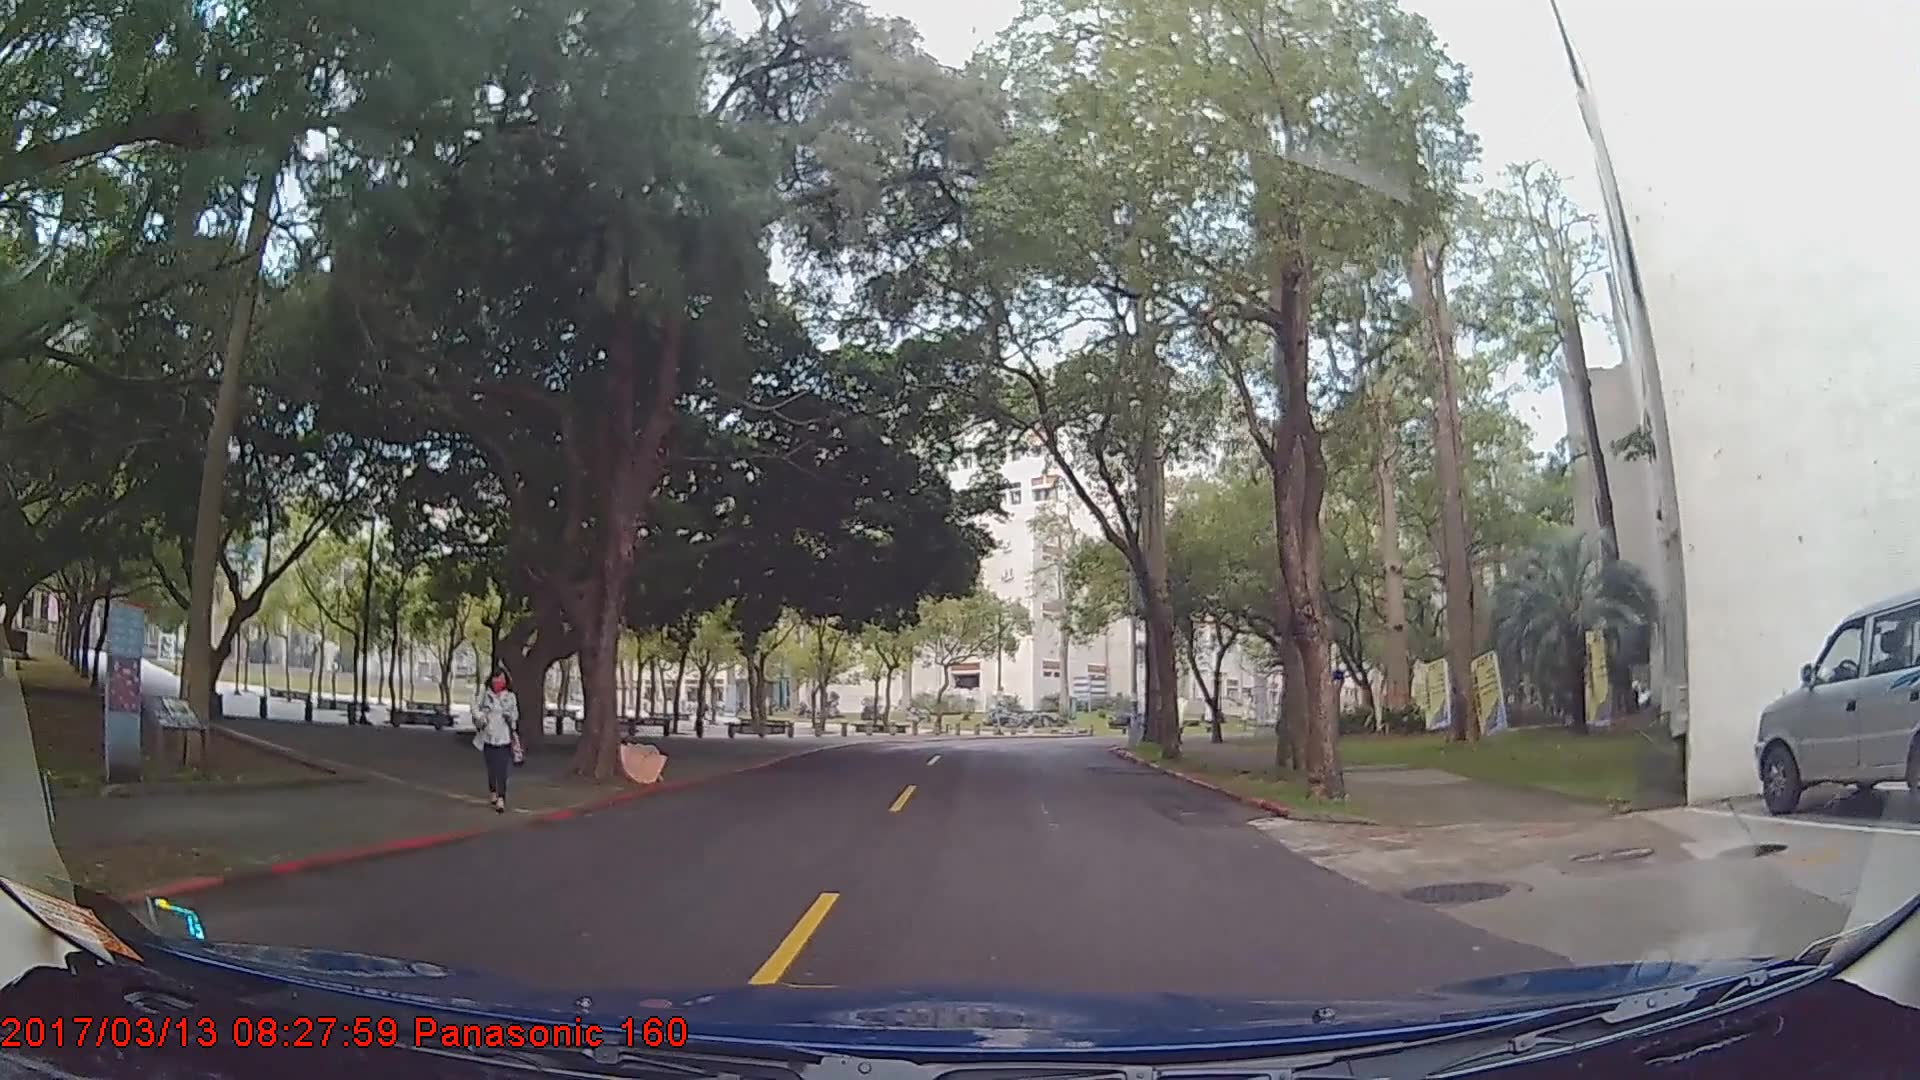pedestrian: (468, 662, 530, 809)
vehicle: (1755, 589, 1920, 819)
